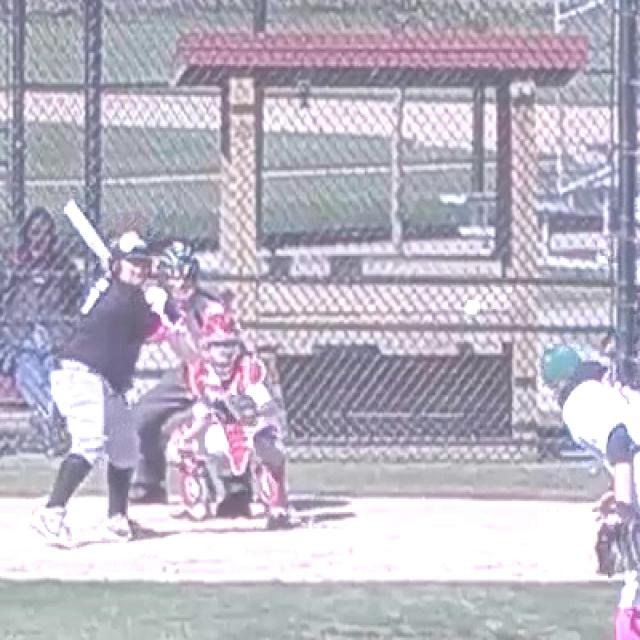baseball: (465, 300, 481, 316)
